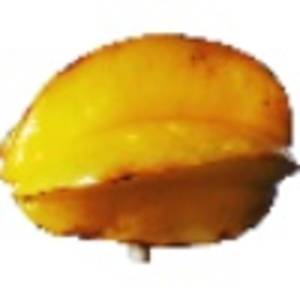carambola: (1, 30, 300, 265)
